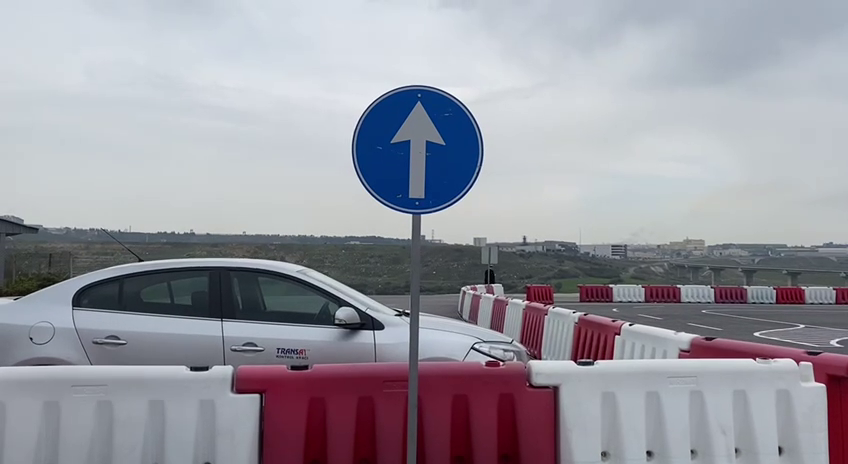forward: (346, 80, 486, 217)
